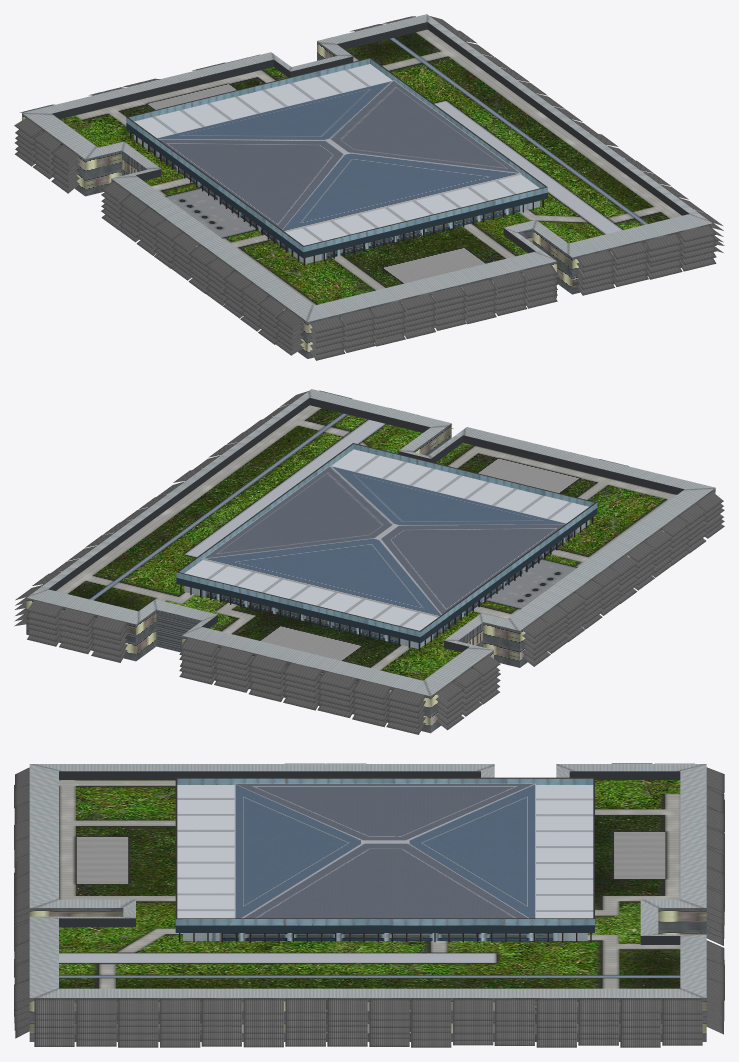
File: 乌镇互联网国际会展中心.glb
3 views of the same model, one above another, from view 1: azimuth 30°, elevation 25°; view 2: azimuth 150°, elevation 25°; view 3: azimuth 270°, elevation 25° (orthographic). The views are drawn at different scales.
Parts seen in each view (by area): view 1: 乌镇互联网国际会展中心; view 2: 乌镇互联网国际会展中心; view 3: 乌镇互联网国际会展中心.
Boxes of the visible parts, x1,y1,x2,y2 form: 乌镇互联网国际会展中心: [14, 14, 724, 360]; 乌镇互联网国际会展中心: [14, 389, 724, 734]; 乌镇互联网国际会展中心: [14, 763, 724, 1047].
Bounding box in the file's own units: 146 × 19.05 × 176.
Materials: 1 (1 with a texture image).
